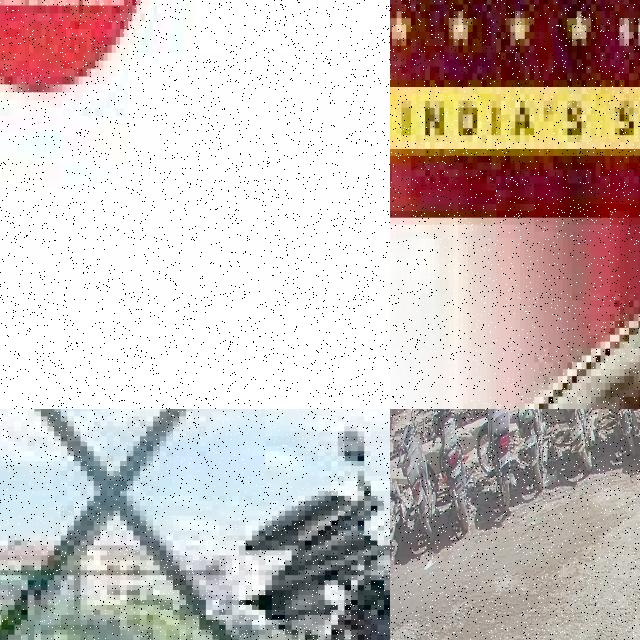bike: (41, 426, 390, 640), (264, 0, 390, 409), (399, 409, 438, 541), (432, 409, 474, 528), (476, 409, 516, 509), (509, 409, 548, 489), (549, 409, 595, 471), (597, 409, 638, 456)
car: (390, 190, 640, 409)
